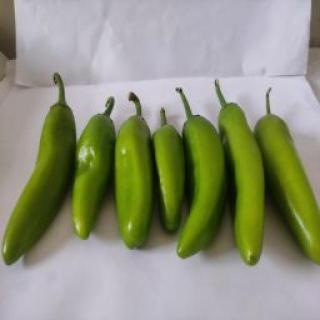Cabai Hijau: (2, 73, 78, 273), (256, 85, 320, 271), (213, 78, 267, 268), (175, 86, 227, 260), (72, 95, 118, 249), (114, 91, 154, 255), (151, 105, 187, 239)
